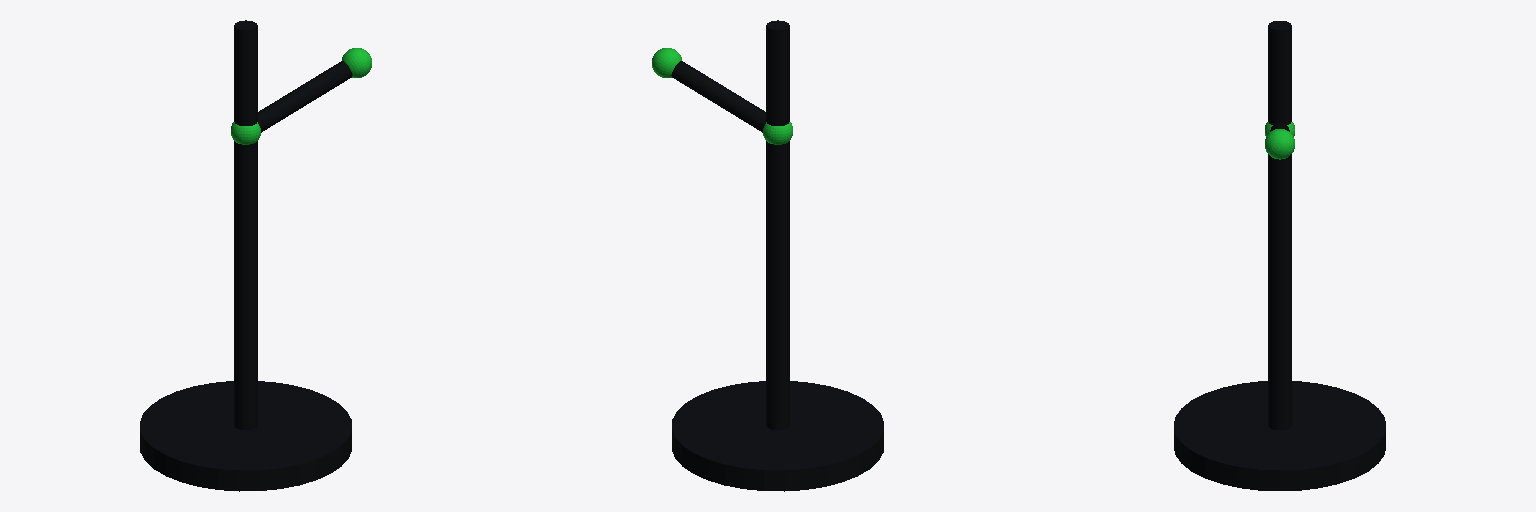
robot.urdf — mugstand:
<?xml version="1.0" ?>
<robot name="mugstand">
  <material name="dark_metal">
    <color rgba="0.08 0.09 0.10 1.0"/>
  </material>
  <material name="kpt_green">
    <color rgba="0.15 0.75 0.25 1.0"/>
  </material>

  <link name="root">
    <inertial>
      <origin xyz="0 0 0" rpy="0 0 0"/>
      <mass value="0.01"/>
      <inertia ixx="1e-6" ixy="0" ixz="0" iyy="1e-6" iyz="0" izz="1e-6"/>
    </inertial>
  </link>

  <joint name="base_fixed" type="fixed">
    <parent link="root"/>
    <child link="base"/>
    <origin xyz="0 0 0.006" rpy="0 0 0"/>
  </joint>

  <link name="base">
    <inertial>
      <origin xyz="0 0 0" rpy="0 0 0"/>
      <mass value="0.35"/>
      <inertia ixx="1e-4" ixy="0" ixz="0" iyy="1e-4" iyz="0" izz="1e-4"/>
    </inertial>
    <visual>
      <origin xyz="0 0 0" rpy="0 0 0"/>
      <geometry>
        <cylinder radius="0.055" length="0.012"/>
      </geometry>
      <material name="dark_metal"/>
    </visual>
    <collision>
      <origin xyz="0 0 0" rpy="0 0 0"/>
      <geometry>
        <cylinder radius="0.055" length="0.012"/>
      </geometry>
    </collision>
  </link>

  <joint name="stand_fixed" type="fixed">
    <parent link="root"/>
    <child link="stand"/>
    <origin xyz="0 0 0.123" rpy="0 0 0"/>
  </joint>

  <link name="stand">
    <inertial>
      <origin xyz="0 0 0" rpy="0 0 0"/>
      <mass value="0.20"/>
      <inertia ixx="1e-4" ixy="0" ixz="0" iyy="1e-4" iyz="0" izz="1e-4"/>
    </inertial>
    <visual>
      <origin xyz="0 0 0" rpy="0 0 0"/>
      <geometry>
        <cylinder radius="0.006" length="0.234"/>
      </geometry>
      <material name="dark_metal"/>
    </visual>
    <collision>
      <origin xyz="0 0 0" rpy="0 0 0"/>
      <geometry>
        <cylinder radius="0.006" length="0.234"/>
      </geometry>
    </collision>
  </link>

  <joint name="junction_fixed" type="fixed">
    <parent link="root"/>
    <child link="junction"/>
    <origin xyz="0 0 0.18" rpy="0 0 0"/>
  </joint>

  <link name="junction">
    <inertial>
      <origin xyz="0 0 0" rpy="0 0 0"/>
      <mass value="0.001"/>
      <inertia ixx="1e-7" ixy="0" ixz="0" iyy="1e-7" iyz="0" izz="1e-7"/>
    </inertial>
    <visual>
      <origin xyz="0 0 0" rpy="0 0 0"/>
      <geometry>
        <sphere radius="0.008"/>
      </geometry>
      <material name="kpt_green"/>
    </visual>
  </link>

  <joint name="branch_fixed" type="fixed">
    <parent link="junction"/>
    <child link="branch"/>
    <origin xyz="0 0 0" rpy="0 1.234121507 0"/>
  </joint>

  <link name="branch">
    <inertial>
      <origin xyz="0 0 0.035" rpy="0 0 0"/>
      <mass value="0.08"/>
      <inertia ixx="1e-5" ixy="0" ixz="0" iyy="1e-5" iyz="0" izz="1e-5"/>
    </inertial>
    <visual>
      <origin xyz="0 0 0.035" rpy="0 0 0"/>
      <geometry>
        <cylinder radius="0.005" length="0.07"/>
      </geometry>
      <material name="dark_metal"/>
    </visual>
    <collision>
      <origin xyz="0 0 0.035" rpy="0 0 0"/>
      <geometry>
        <cylinder radius="0.005" length="0.07"/>
      </geometry>
    </collision>
  </link>

  <joint name="corner_fixed" type="fixed">
    <parent link="branch"/>
    <child link="corner"/>
    <origin xyz="0 0 0.07" rpy="0 0 0"/>
  </joint>

  <link name="corner">
    <inertial>
      <origin xyz="0 0 0" rpy="0 0 0"/>
      <mass value="0.001"/>
      <inertia ixx="1e-7" ixy="0" ixz="0" iyy="1e-7" iyz="0" izz="1e-7"/>
    </inertial>
    <visual>
      <origin xyz="0 0 0" rpy="0 0 0"/>
      <geometry>
        <sphere radius="0.008"/>
      </geometry>
      <material name="kpt_green"/>
    </visual>
  </link>
</robot>

--- Render facts (derived) ---
The picture shows the robot from 3 angles, left to right: view 1: azimuth 30°, elevation 25°; view 2: azimuth 150°, elevation 25°; view 3: azimuth 270°, elevation 25°; orthographic projection.
Model mugstand with 6 links and 5 joints (5 fixed), rooted at root, posed every joint at zero.
Links seen in each view (by area): view 1: base, stand, branch, corner, junction; view 2: base, stand, branch, corner, junction; view 3: base, stand, corner.
Boxes of the visible links, <box> form: base: <box>140,381,351,491</box>; stand: <box>234,20,257,429</box>; branch: <box>258,61,352,132</box>; corner: <box>342,48,371,77</box>; junction: <box>231,122,260,144</box>; base: <box>672,381,883,491</box>; stand: <box>766,20,789,429</box>; branch: <box>671,61,765,132</box>; corner: <box>652,48,681,77</box>; junction: <box>763,122,792,144</box>; base: <box>1174,381,1385,490</box>; stand: <box>1268,21,1291,429</box>; corner: <box>1265,129,1294,159</box>.
Bounding box of the posed robot: 0.1291 × 0.11 × 0.24 m (x, y, z).
Geometry: primitives only (box / cylinder / sphere), no mesh files.
